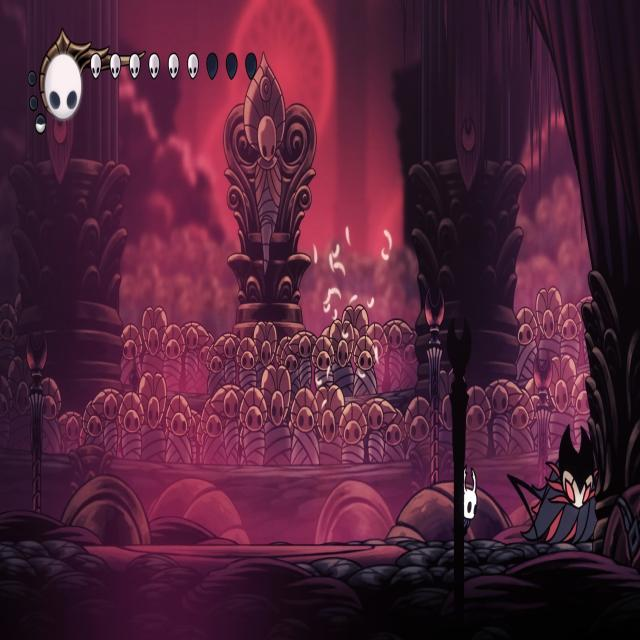Dive Dash: (506, 417, 639, 549)
Player: (462, 463, 482, 540)
